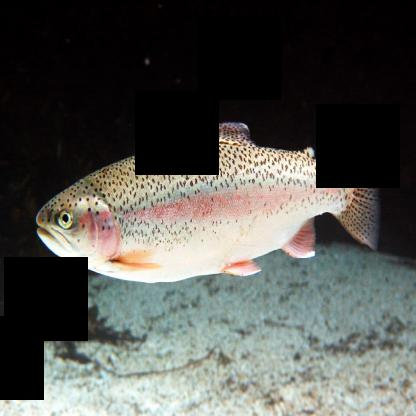fish: (35, 108, 384, 282)
